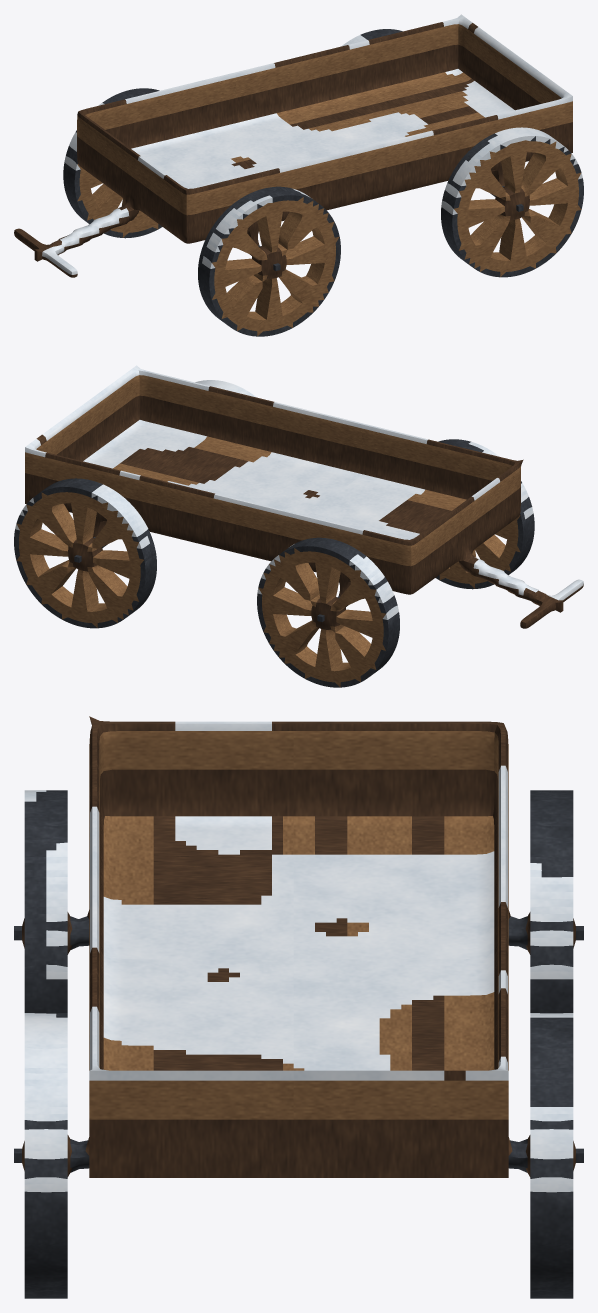
The model's file is prop_wagon_snow.glb.
3 views of the same model, one above another, from view 1: azimuth 30°, elevation 25°; view 2: azimuth 150°, elevation 25°; view 3: azimuth 270°, elevation 25° (orthographic). The views are drawn at different scales.
Parts seen in each view (by area): view 1: wilds_prop_wagon_snow; view 2: wilds_prop_wagon_snow; view 3: wilds_prop_wagon_snow.
Boxes of the visible parts, x1=… form: wilds_prop_wagon_snow: x1=14, y1=14, x2=583, y2=336; wilds_prop_wagon_snow: x1=14, y1=365, x2=583, y2=687; wilds_prop_wagon_snow: x1=14, y1=716, x2=583, y2=1298.
Bounding box in the file's own units: 2.12 × 0.6294 × 1.16.
1 material, 1 textured.
